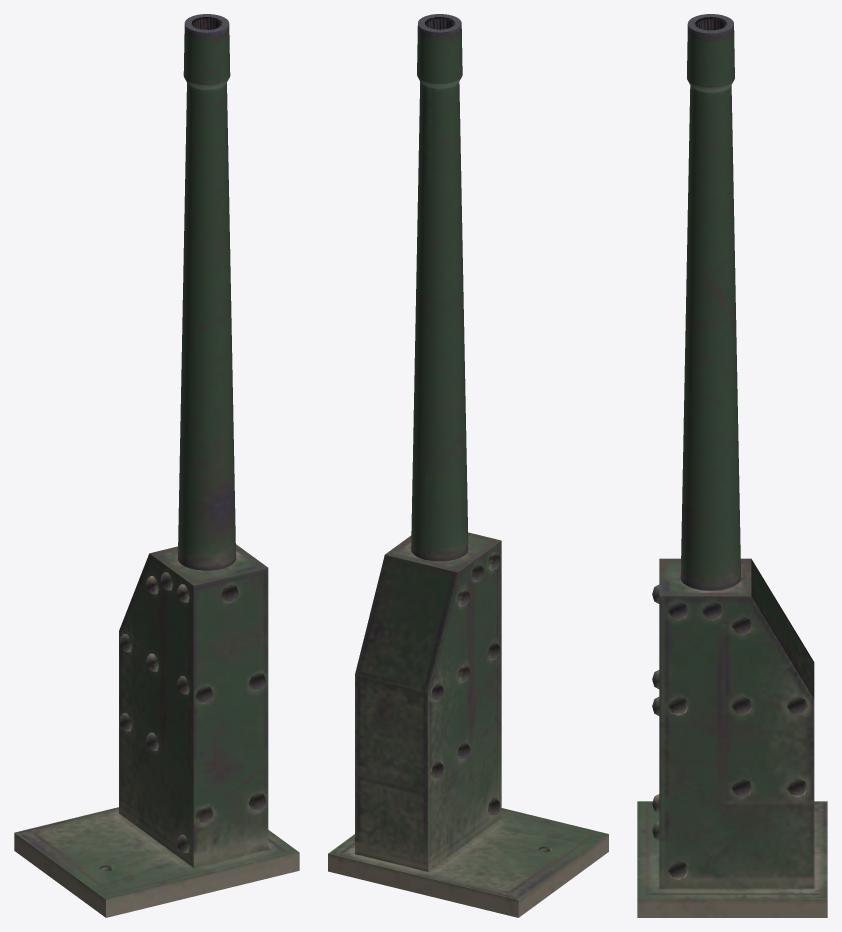
Rendered from Gun_05.glb.
The picture shows the model from 3 angles, left to right: view 1: azimuth 30°, elevation 25°; view 2: azimuth 150°, elevation 25°; view 3: azimuth 270°, elevation 25°; orthographic projection. The views are drawn at different scales.
Parts seen in each view (by area): view 1: set_0_group_0; view 2: set_0_group_0; view 3: set_0_group_0.
Part boxes in pixels (x1,y1,x2,y2): set_0_group_0: (14, 14, 299, 917); set_0_group_0: (328, 14, 608, 917); set_0_group_0: (637, 14, 827, 917).
Bounding box in the file's own units: 0.3733 × 1.54 × 0.3066.
1 material, 1 textured.
